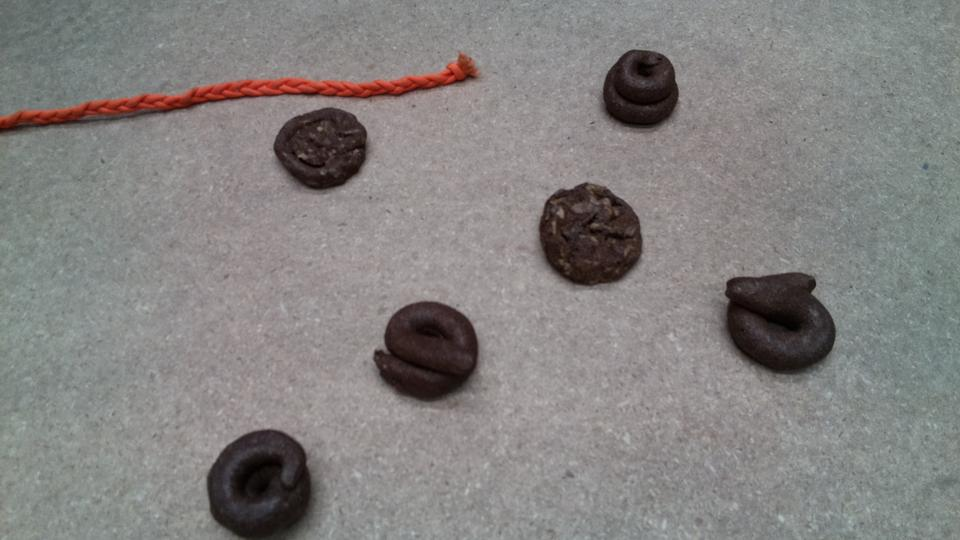poop: (203, 425, 318, 540), (723, 269, 839, 376), (537, 179, 645, 290), (371, 296, 481, 404), (272, 104, 371, 193), (601, 45, 682, 132)
rope: (1, 52, 480, 132)
